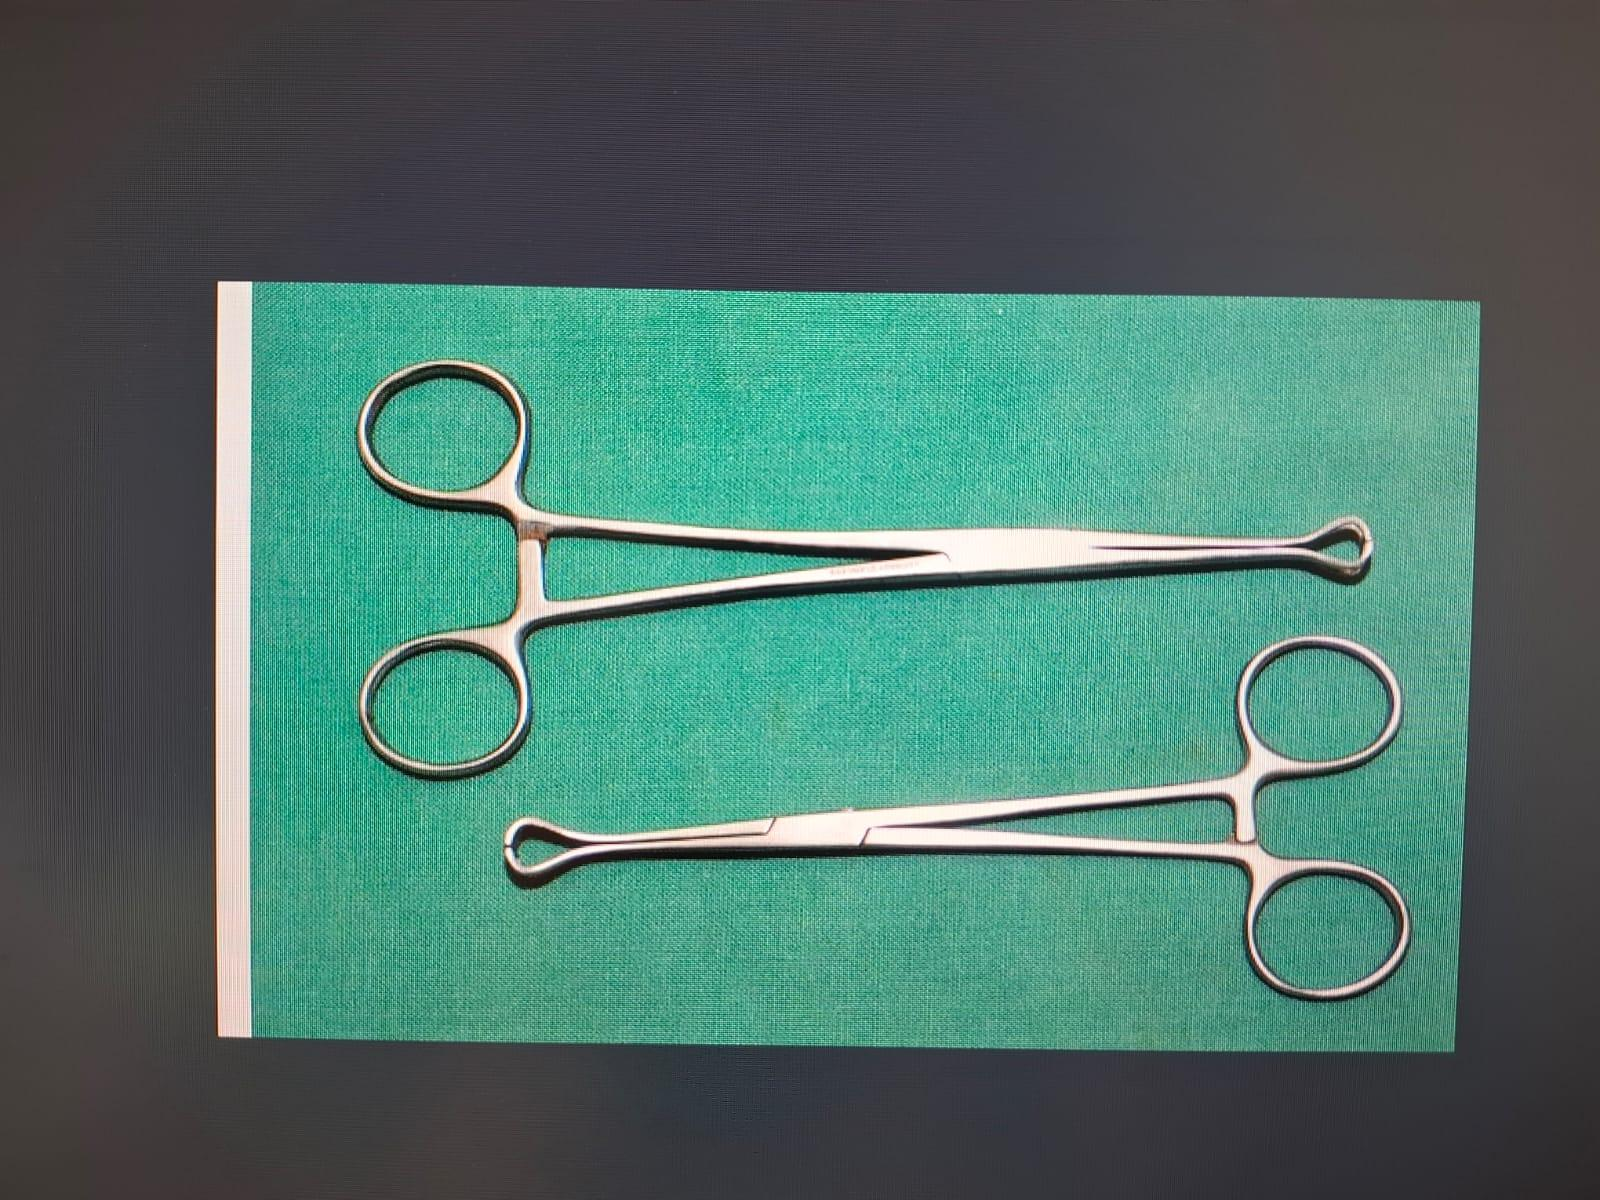Babcock Forceps: (346, 342, 1390, 784), (486, 626, 1430, 1013)
